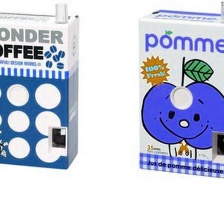carton: (132, 5, 223, 179), (0, 5, 93, 170)
